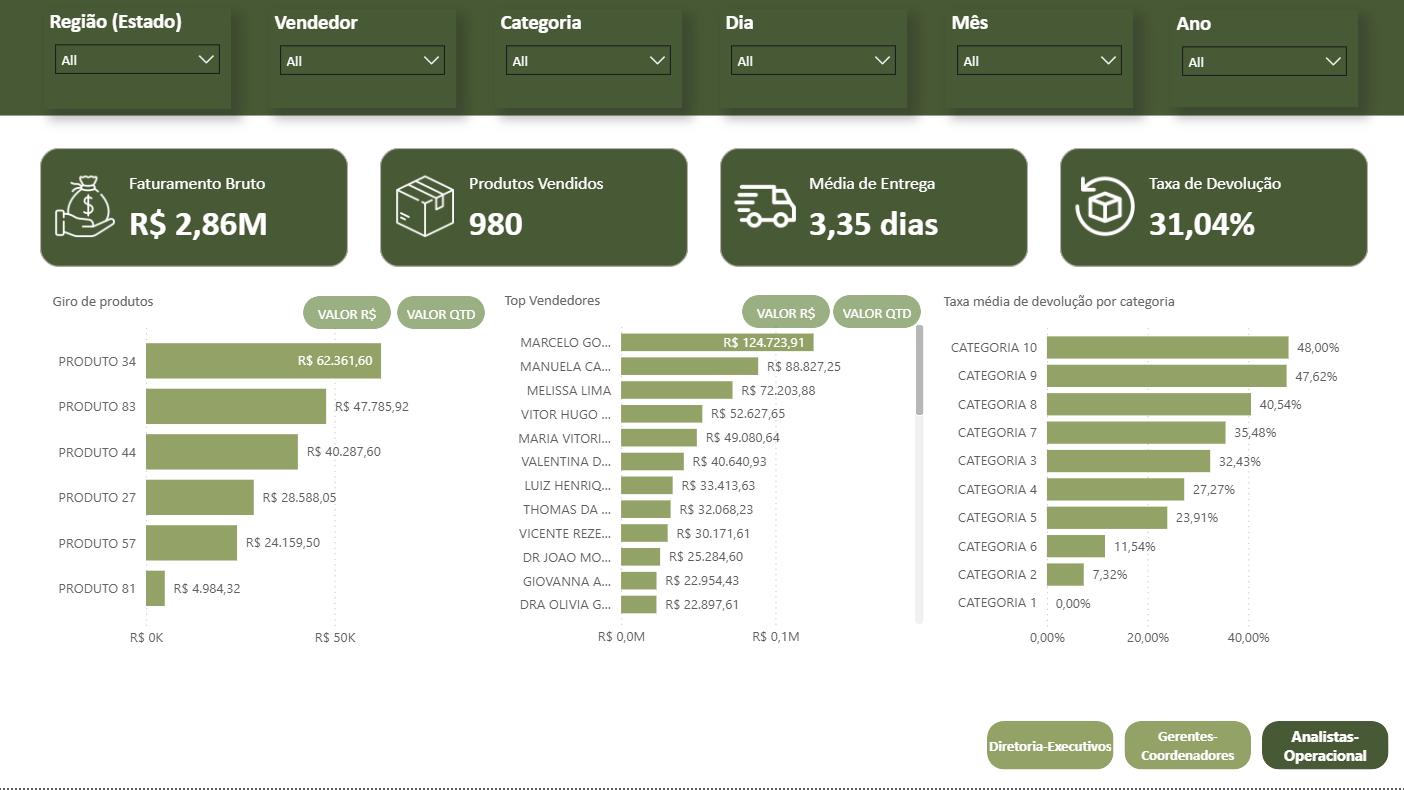

The page's visual inventory and layout, read from the dashboard file:
{"tool":"powerbi","page":{"name":"Analistas-Operacional","canvas":[1280,720],"ordinal":2},"visuals":[{"type":"shape","title":"Painel Grande","box":[0,1,1278.7,107.8],"z":0,"group":"g5"},{"type":"slicer","title":"Mês","fields":{"Values":["public dim_tempo.nome_mes"]},"box":[861.7,11.5,170.3,90.5],"z":0,"group":"g4"},{"type":"cardVisual","title":"Cartão - Taxa de Devolução","fields":{"Data":["medidas.Taxa de Devolução"]},"box":[965.6,138.6,280,108.3],"z":0,"group":"g3"},{"type":"clusteredBarChart","title":"Top Vendedores","fields":{"Category":["public dim_vendedores.nome"],"Y":["medidas.Valor Vendido"]},"box":[455.7,267.8,391.2,332],"z":0,"group":"g2"},{"type":"clusteredBarChart","title":"Taxa média de devolução por categoria","fields":{"Category":["public dim_produtos.categoria"],"Y":["medidas.Taxa de Devolução"]},"box":[854.3,269,391.2,332.5],"z":0},{"type":"cardVisual","title":"Cartão - Média de Entrega","fields":{"Data":["medidas.Tempo Médio de Entrega"]},"box":[656.7,138.6,280,108.3],"z":1000,"group":"g3"},{"type":"group","id":"g1","title":"Grupo Giro","box":[42.2,268.7,403.1,332.2],"z":1000},{"type":"clusteredBarChart","title":"Giro de produtos","fields":{"Category":["public dim_produtos.nome"],"Y":["medidas.Valor Vendido"]},"box":[45.3,268.9,400,332],"z":1000,"group":"g1"},{"type":"cardVisual","title":"Cartão - Produtos Vendidos","fields":{"Data":["medidas.Faturamento Bruto"]},"box":[38.3,138.6,280,108.3],"z":2000,"group":"g3"},{"type":"group","id":"g2","title":"Grupo Vendedor","box":[455.6,267.8,391.4,334],"z":2000},{"type":"actionButton","title":"Botão Por Quantidade","box":[759.5,271.7,80,30],"z":2000,"group":"g2"},{"type":"actionButton","title":"Botão Por Quantidade","box":[362.7,272.2,80,30],"z":2000,"group":"g1"},{"type":"group","id":"g3","title":"Cartões KPIs","box":[38.3,138.6,1207.3,108.3],"z":3000},{"type":"cardVisual","title":"Cartão - Faturamento Bruto","fields":{"Data":["medidas.Qtd Vendida"]},"box":[347.5,138.6,280,108.3],"z":3000,"group":"g3"},{"type":"actionButton","title":"Botão Por Valor","box":[676.2,271.7,80,30],"z":3000,"group":"g2"},{"type":"actionButton","title":"Botão Por Valor","box":[278.1,271.9,80,30],"z":3000,"group":"g1"},{"type":"group","id":"g4","title":"Filtros","box":[41.9,10.9,1194.8,91.7],"z":4000,"group":"g5"},{"type":"slicer","title":"Ano","fields":{"Values":["public dim_tempo.ano"]},"box":[1066.7,12.6,170,88.3],"z":4000,"group":"g4"},{"type":"pageNavigator","box":[898.9,658.9,366.7,44.4],"z":4000},{"type":"group","id":"g5","title":"Painel Grande","box":[0,1,1278.7,107.8],"z":5000},{"type":"slicer","title":"Dia","fields":{"Values":["public dim_tempo.dia"]},"box":[656.7,11.5,170.3,90.5],"z":8000,"group":"g4"},{"type":"slicer","title":"Categoria","fields":{"Values":["public dim_produtos.categoria"]},"box":[451.6,11.5,170.3,90.5],"z":15000,"group":"g4"},{"type":"slicer","title":"Região (Estado)","fields":{"Values":["public dim_clientes.estado"]},"box":[41.9,10.9,170,91.7],"z":19000,"group":"g4"},{"type":"slicer","title":"Vendedor","fields":{"Values":["public dim_vendedores.nome"]},"box":[246.6,11.5,170.3,90.5],"z":20000,"group":"g4"}]}

Visuals, with their boxes in screenshot pixels (x1, y1, x2, y2), scaled from the page's 1280x720 canvas onto the 1404x790 screenshot:
"Painel Grande" shape: {"x1": 0, "y1": 1, "x2": 1403, "y2": 119}
"Mês" slicer: {"x1": 945, "y1": 13, "x2": 1132, "y2": 112}
"Cartão - Taxa de Devolução" cardVisual: {"x1": 1059, "y1": 152, "x2": 1366, "y2": 271}
"Top Vendedores" clusteredBarChart: {"x1": 500, "y1": 294, "x2": 929, "y2": 658}
"Taxa média de devolução por categoria" clusteredBarChart: {"x1": 937, "y1": 295, "x2": 1366, "y2": 660}
"Cartão - Média de Entrega" cardVisual: {"x1": 720, "y1": 152, "x2": 1027, "y2": 271}
"Grupo Giro" group: {"x1": 46, "y1": 295, "x2": 488, "y2": 659}
"Giro de produtos" clusteredBarChart: {"x1": 50, "y1": 295, "x2": 488, "y2": 659}
"Cartão - Produtos Vendidos" cardVisual: {"x1": 42, "y1": 152, "x2": 349, "y2": 271}
"Grupo Vendedor" group: {"x1": 500, "y1": 294, "x2": 929, "y2": 660}
"Botão Por Quantidade" actionButton: {"x1": 833, "y1": 298, "x2": 921, "y2": 331}
"Botão Por Quantidade" actionButton: {"x1": 398, "y1": 299, "x2": 486, "y2": 332}
"Cartões KPIs" group: {"x1": 42, "y1": 152, "x2": 1366, "y2": 271}
"Cartão - Faturamento Bruto" cardVisual: {"x1": 381, "y1": 152, "x2": 688, "y2": 271}
"Botão Por Valor" actionButton: {"x1": 742, "y1": 298, "x2": 829, "y2": 331}
"Botão Por Valor" actionButton: {"x1": 305, "y1": 298, "x2": 393, "y2": 331}
"Filtros" group: {"x1": 46, "y1": 12, "x2": 1357, "y2": 113}
"Ano" slicer: {"x1": 1170, "y1": 14, "x2": 1357, "y2": 111}
pageNavigator: {"x1": 986, "y1": 723, "x2": 1388, "y2": 772}
"Painel Grande" group: {"x1": 0, "y1": 1, "x2": 1403, "y2": 119}
"Dia" slicer: {"x1": 720, "y1": 13, "x2": 907, "y2": 112}
"Categoria" slicer: {"x1": 495, "y1": 13, "x2": 682, "y2": 112}
"Região (Estado)" slicer: {"x1": 46, "y1": 12, "x2": 232, "y2": 113}
"Vendedor" slicer: {"x1": 270, "y1": 13, "x2": 457, "y2": 112}
